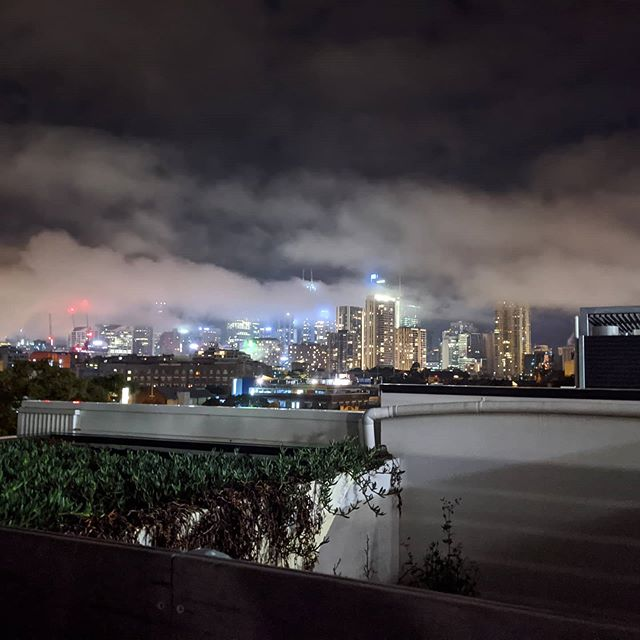building: (89, 352, 259, 394), (488, 293, 535, 383), (360, 292, 403, 377), (222, 314, 282, 369), (437, 315, 491, 376), (280, 314, 332, 376), (62, 321, 153, 356), (327, 309, 365, 374), (396, 317, 439, 371)
sky: (9, 1, 640, 315)
vegetation: (9, 433, 350, 541)
